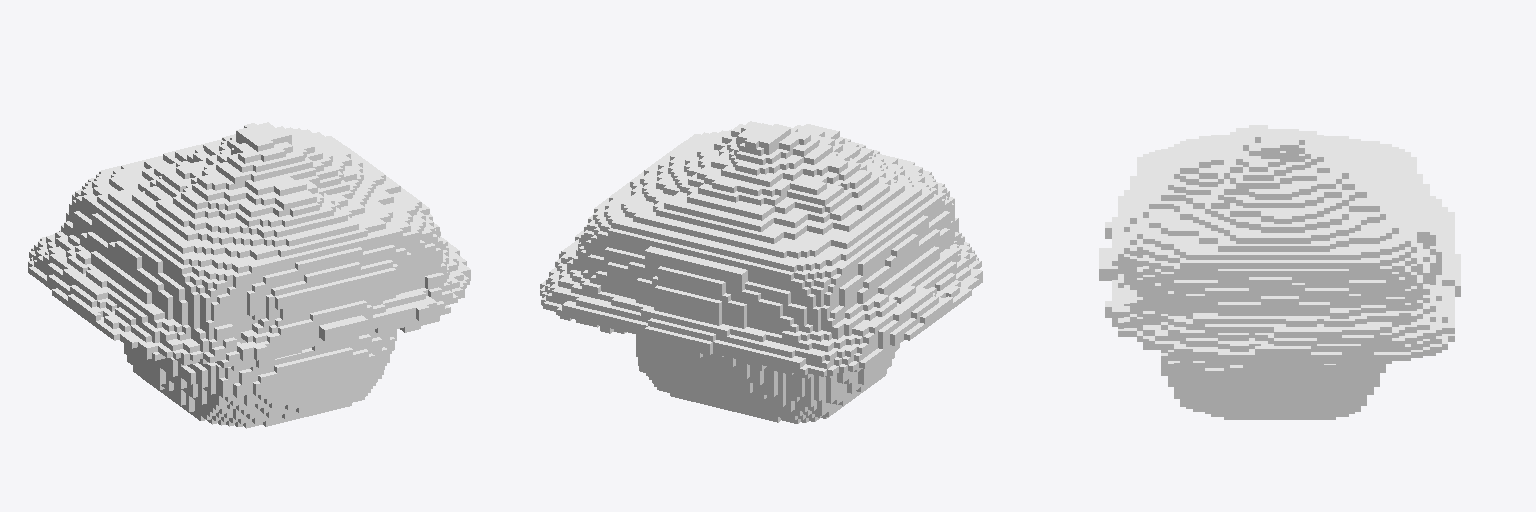
Rendered from Mushroomreal.obj.
The picture shows the model from 3 angles: view 1: azimuth 30°, elevation 25°; view 2: azimuth 150°, elevation 25°; view 3: azimuth 270°, elevation 25°; orthographic projection.
Parts seen in each view (by area): view 1: object 1; view 2: object 1; view 3: object 1.
Boxes of the visible parts, x1,y1,x2,y2 form: object 1: [28, 122, 470, 428]; object 1: [540, 121, 982, 423]; object 1: [1099, 125, 1460, 419].
Bounding box in the file's own units: 6.4 × 4.3 × 5.8.